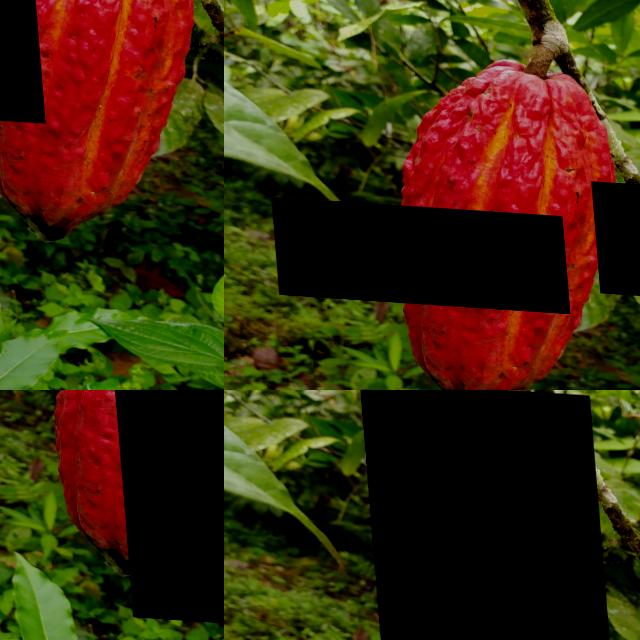Fitoftora: (357, 390, 610, 640), (107, 390, 224, 626)
Monilia: (587, 175, 640, 295)
Sana: (267, 196, 564, 309)
